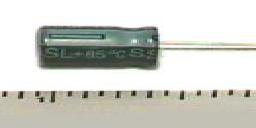Electrolytic-Capacitor: (35, 23, 256, 79)
